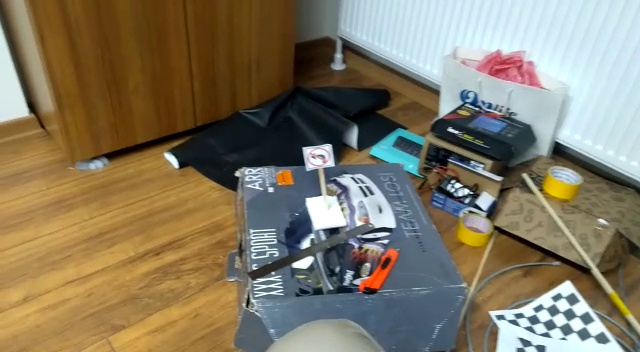sola_donulmez: (306, 145, 330, 168)
